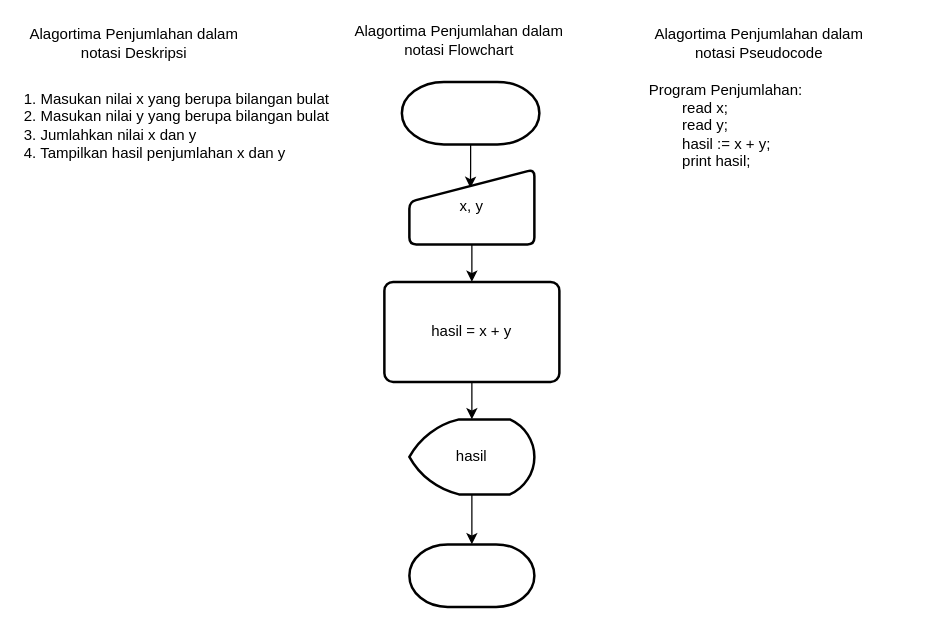
This 943x629 diagram has some shape labels left out. Here are the shapes that lost their labels. From the top down, the box of each, then its label:
(400, 80, 540, 145): mulai
(408, 542, 535, 608): selesai
